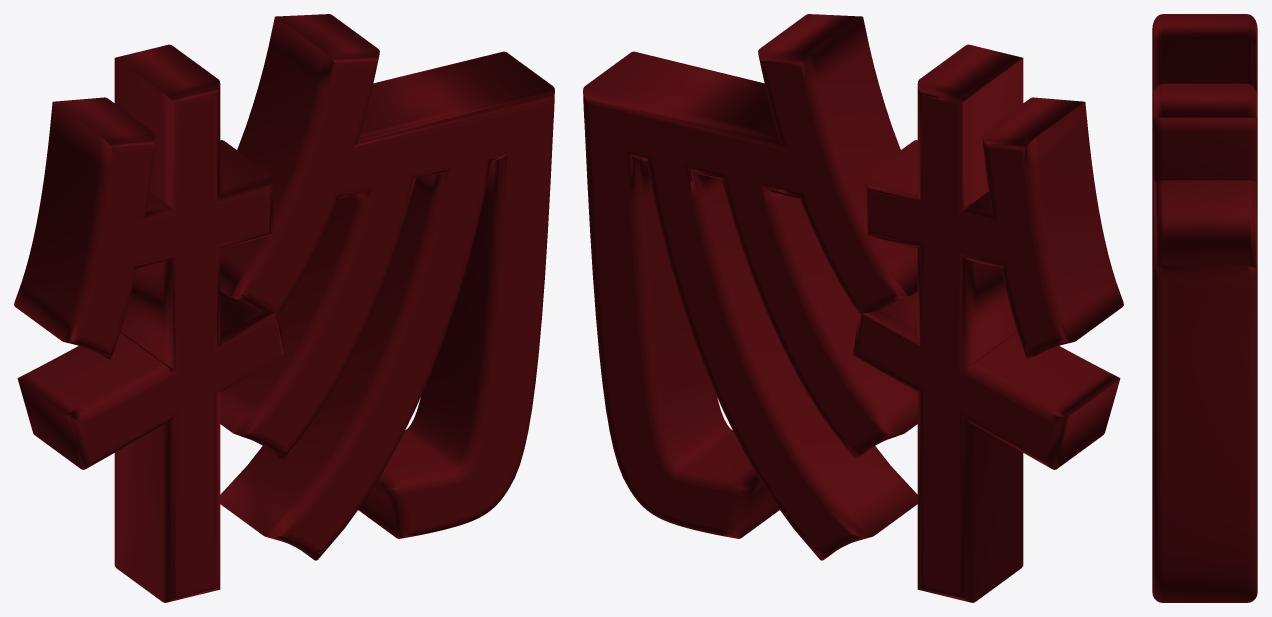
Rendered from MottoMat.fbx.
3 renders of one model, left to right at view 1: azimuth 30°, elevation 25°; view 2: azimuth 150°, elevation 25°; view 3: azimuth 270°, elevation 25°, orthographic. The views are drawn at different scales.
Parts seen in each view (by area): view 1: 文本.114; view 2: 文本.114; view 3: 文本.114.
Boxes of the visible parts, bbox=[...] form: 文本.114: bbox=[14, 14, 554, 602]; 文本.114: bbox=[583, 14, 1123, 602]; 文本.114: bbox=[1152, 14, 1257, 602].
Bounding box in the file's own units: 96.85 × 20 × 96.32.
